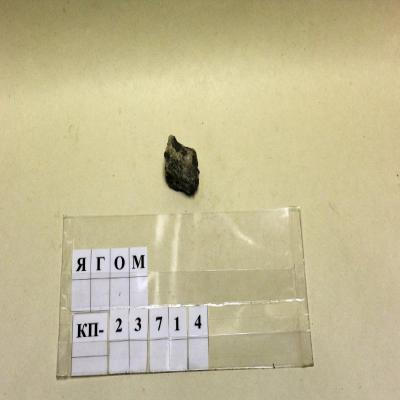mineralogy: (164, 136, 199, 194)
